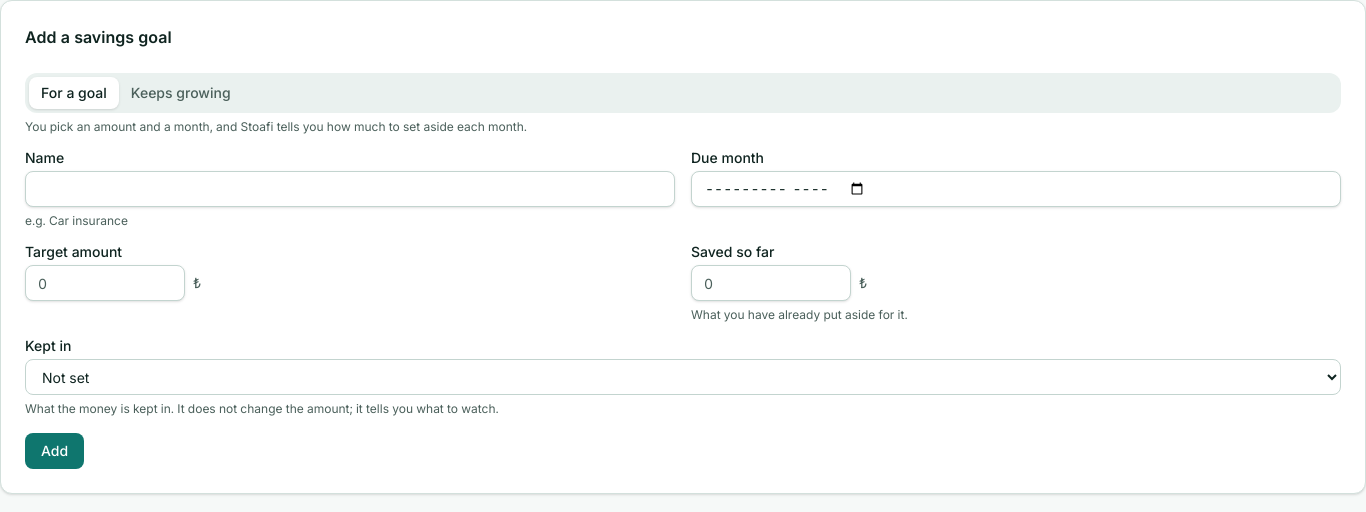
open pots › still needs a name
Click the radio button labelled "Keeps growing": (181,92) [131, 84, 231, 101]
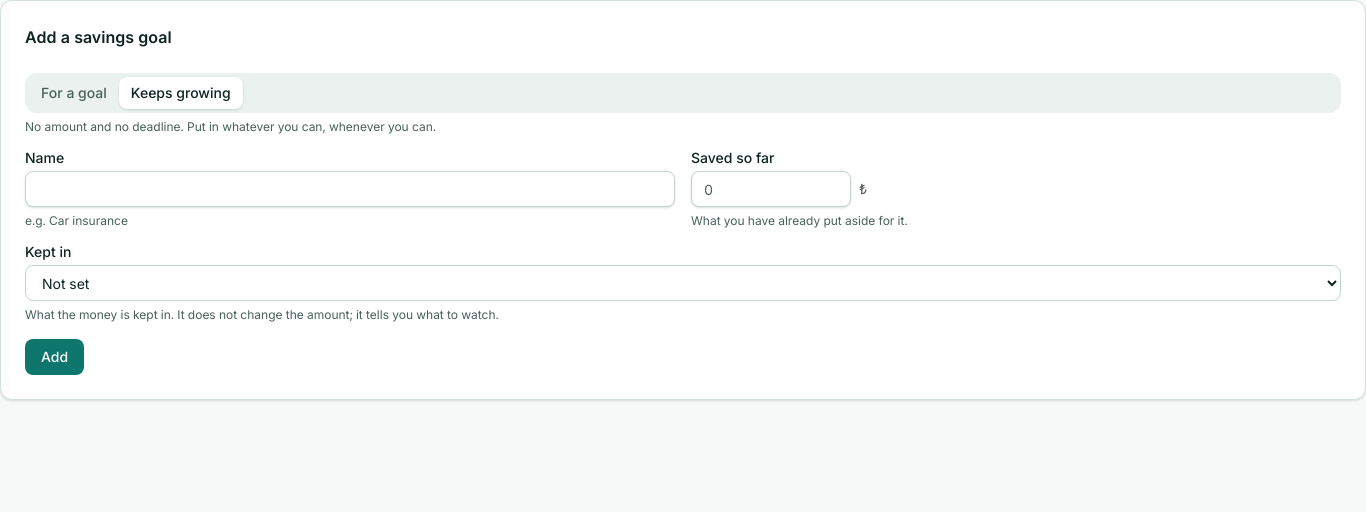
Click the button "Add": (55,357) [25, 339, 84, 375]
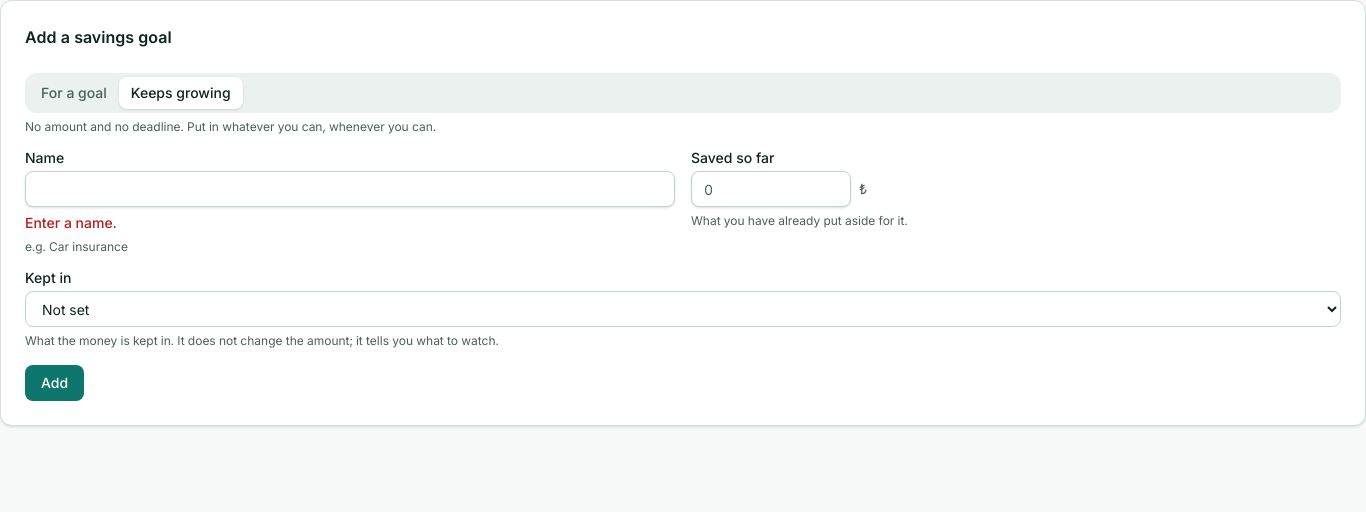
Result: the text "Enter a name." is shown at [25, 214, 116, 231]
